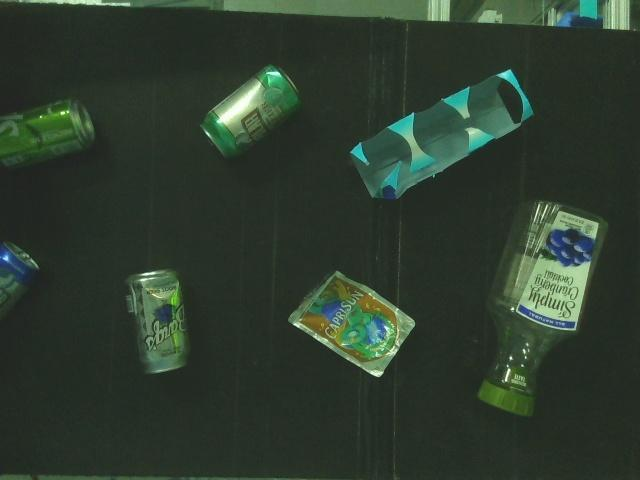cardboard: (346, 63, 540, 203)
metal: (194, 61, 308, 165), (120, 264, 198, 381), (0, 96, 105, 176), (0, 238, 46, 332)
plastic: (475, 197, 613, 421), (284, 266, 424, 382)
